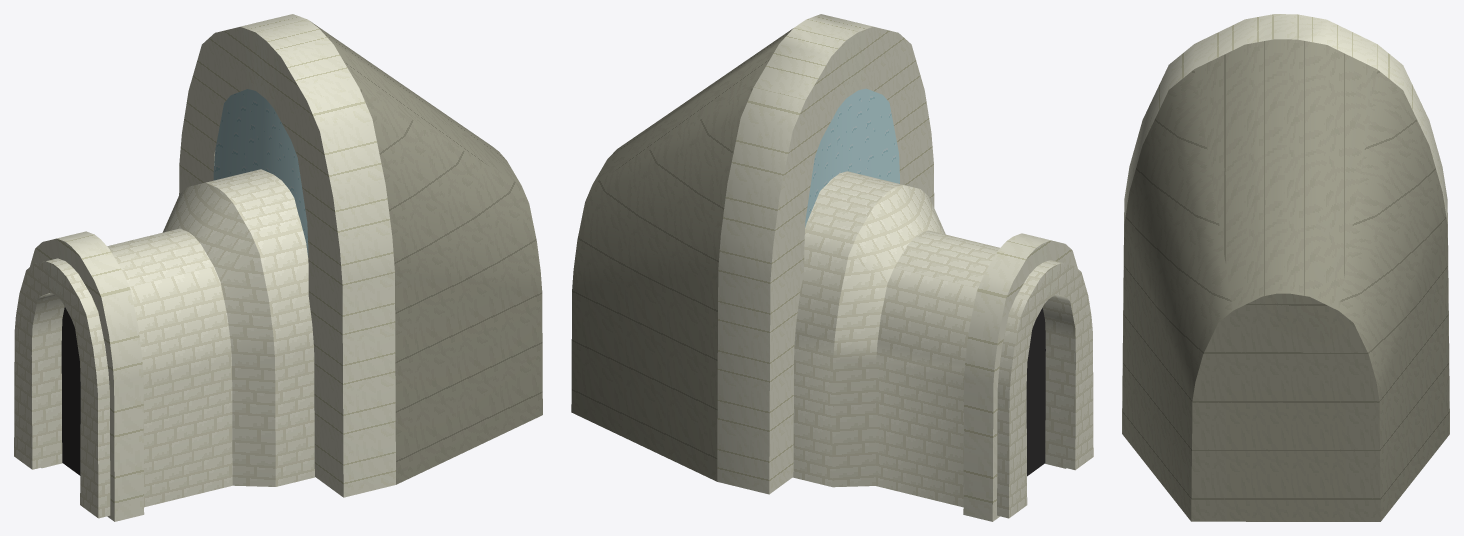
File: water_residential1.fbx
3 renders of one model, left to right at view 1: azimuth 30°, elevation 25°; view 2: azimuth 150°, elevation 25°; view 3: azimuth 270°, elevation 25°, orthographic.
Visible parts, largest first — view 1: w_house1; view 2: w_house1; view 3: w_house1.
Part boxes in pixels (x1=…): w_house1: x1=14, y1=14, x2=542, y2=521; w_house1: x1=571, y1=14, x2=1093, y2=521; w_house1: x1=1122, y1=14, x2=1449, y2=521.
Size of the model in its own units: 1431 by 1271 by 942.
Materials: 5 (4 with a texture image).
